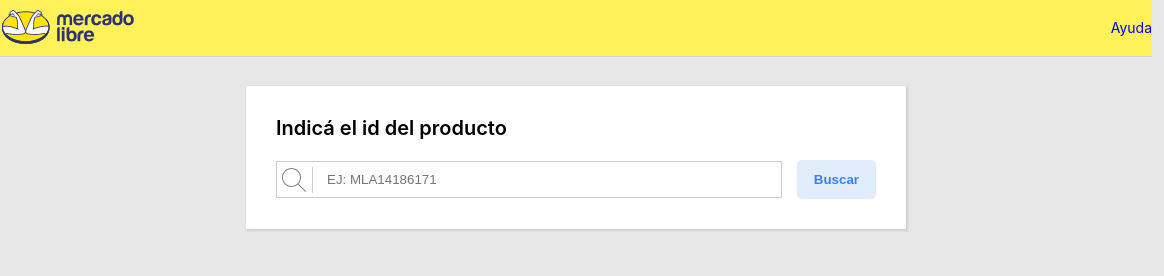
it doesn't find a product and shows a message
Step 1. Type "error" into the field labelled "Indicá el id del producto" → (529, 180), box [276,161,782,198]
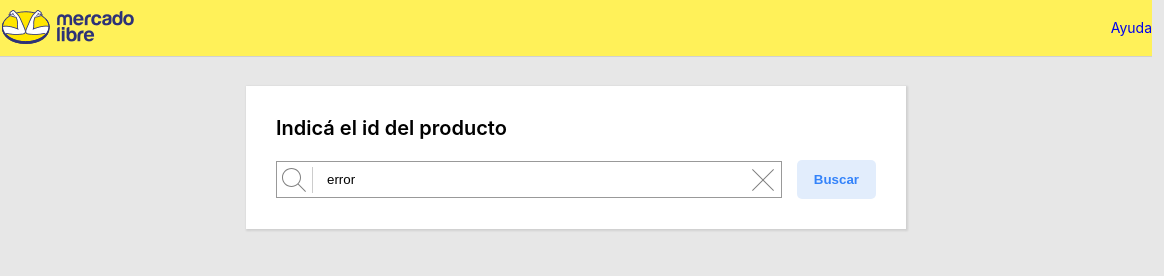
Step 2. Click the button "Buscar" → (836, 180), box [797,160,876,199]
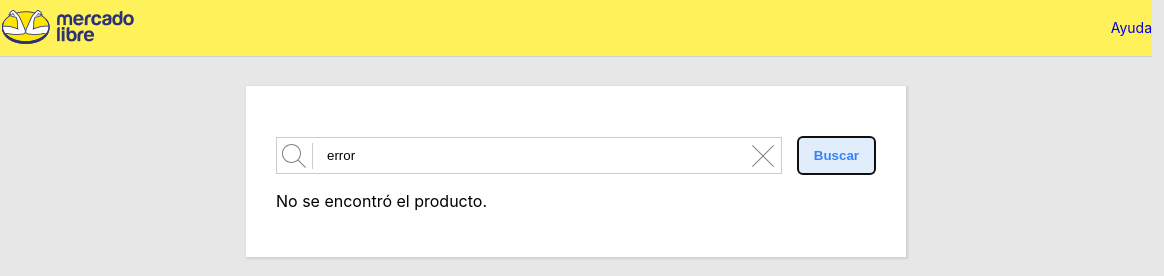
Expected: the text "No se encontró el producto." is shown, [276,191,487,211]
